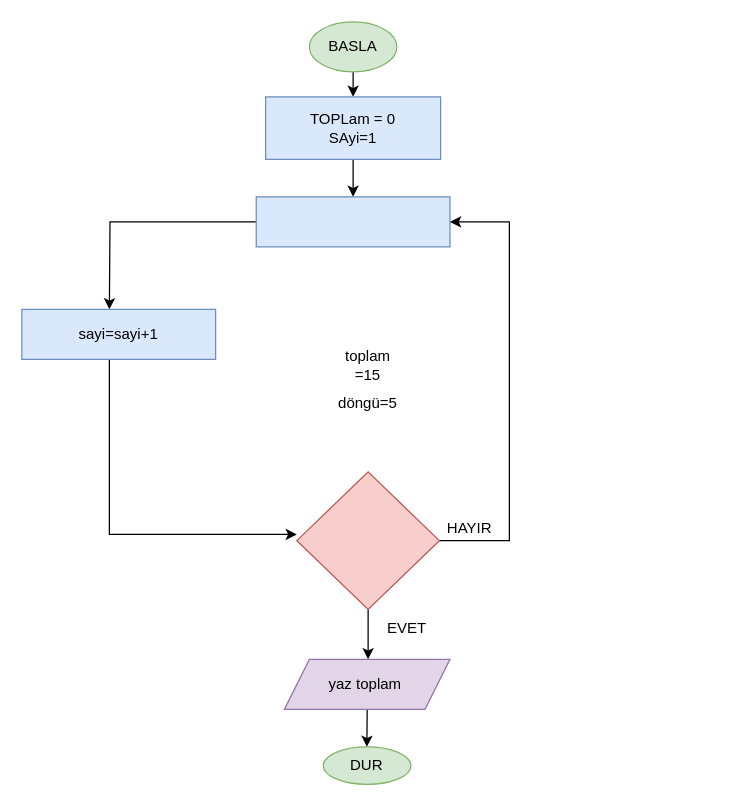
Some shapes in this 731 by 806 pixel diagram are drawn without their labels. Each missing label, with the box of its shape:
toplam = toplam + sayi: (255, 196, 450, 247)
toplam >10: (296, 471, 439, 609)
